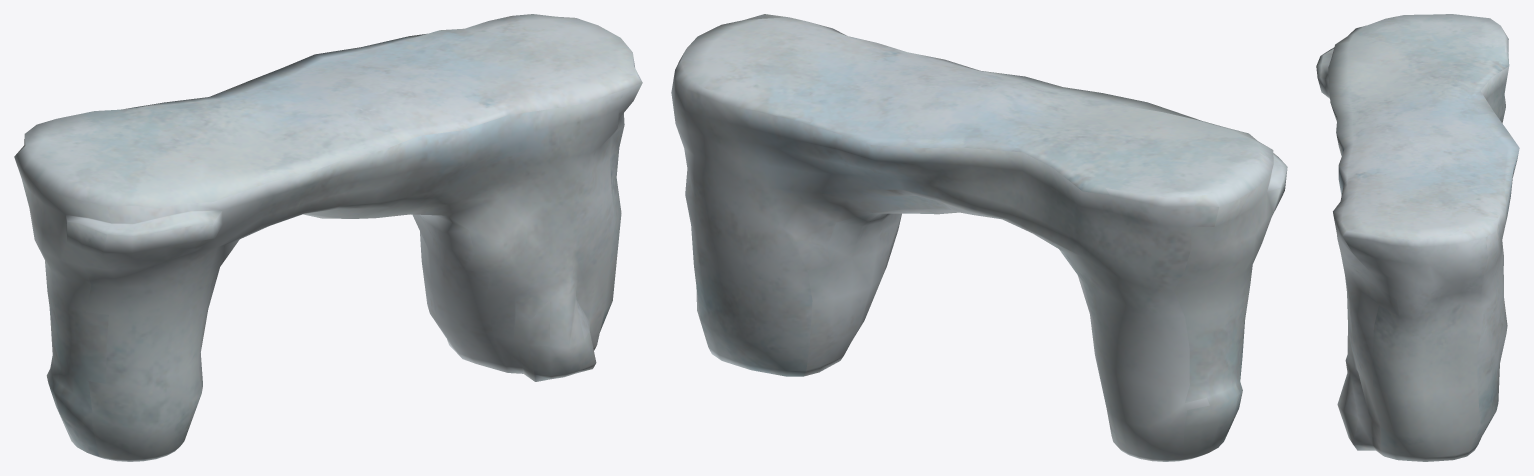
Rendered from P_RockDesert_CliffC08.obj.
3 renders of one model, left to right at view 1: azimuth 30°, elevation 25°; view 2: azimuth 150°, elevation 25°; view 3: azimuth 270°, elevation 25°, orthographic. The views are drawn at different scales.
Size of the model in its own units: 108 by 52.9 by 40.46.
